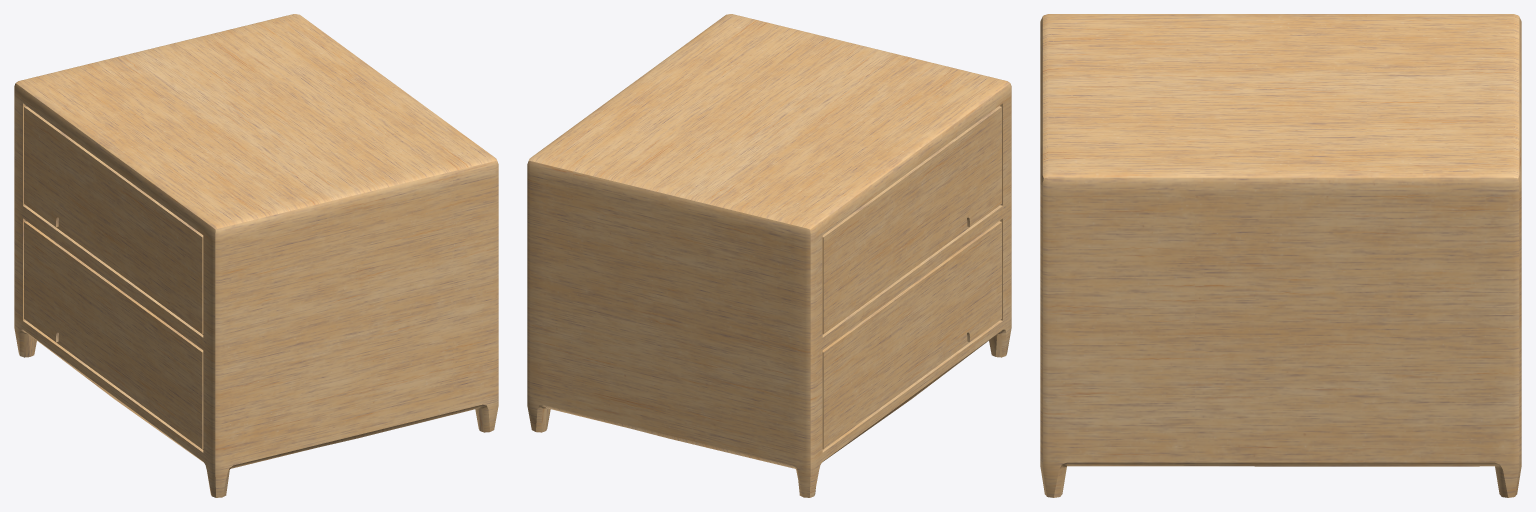
The model's file is stool_M.fbx.
The picture shows the model from 3 angles, left to right: view 1: azimuth 30°, elevation 25°; view 2: azimuth 150°, elevation 25°; view 3: azimuth 270°, elevation 25°; orthographic projection. The views are drawn at different scales.
Visible parts, largest first — view 1: stul; view 2: stul; view 3: stul.
Part boxes in pixels (x1,y1,x2,y2): stul: [14, 14, 498, 497]; stul: [527, 14, 1011, 497]; stul: [1040, 14, 1521, 497].
Size of the model in its own units: 0.1606 by 0.1457 by 0.197.
